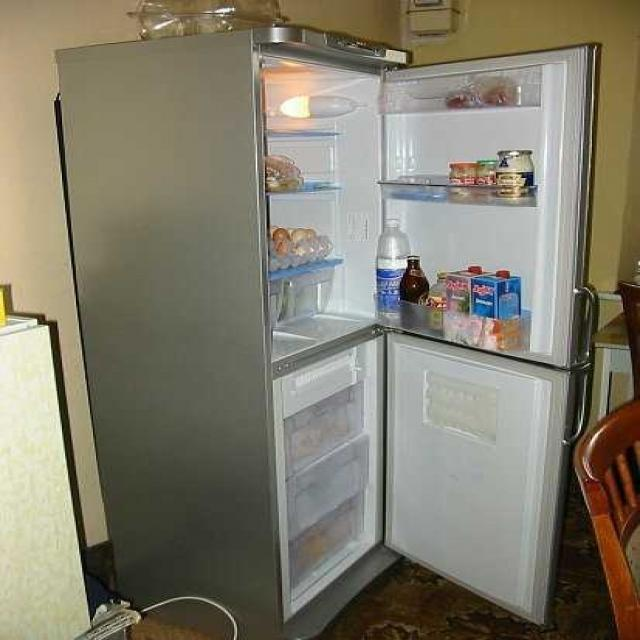refrigerator: (248, 23, 569, 640)
